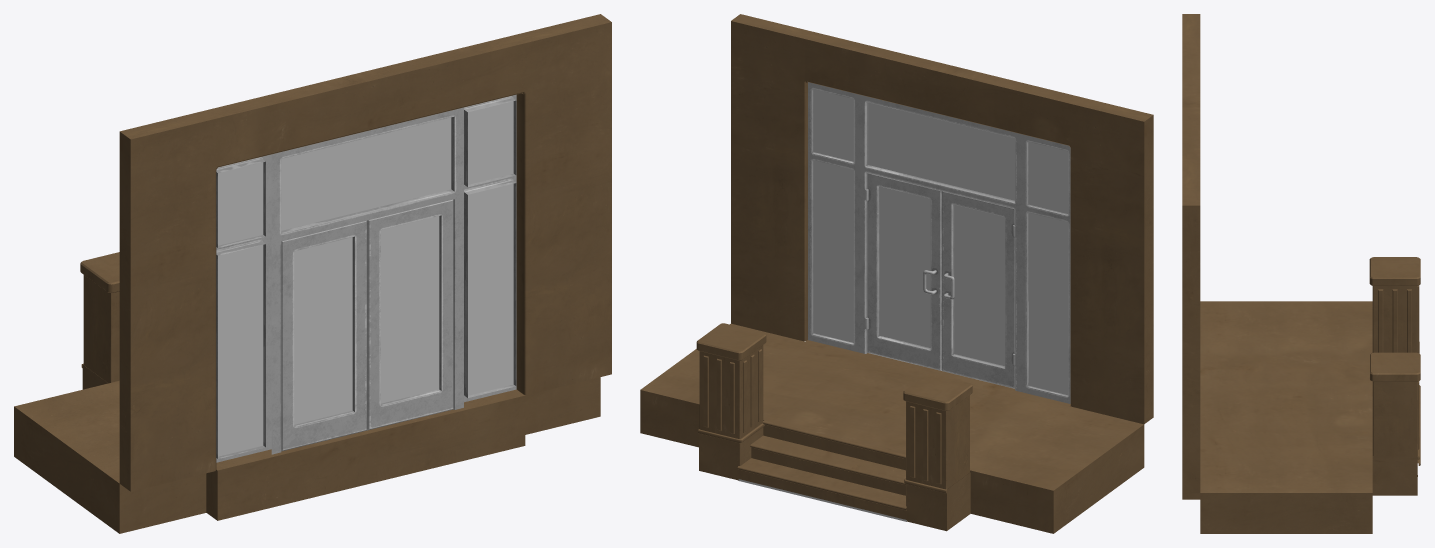
File: SM_Building02EntranceR.fbx
The picture shows the model from 3 angles, left to right: view 1: azimuth 30°, elevation 25°; view 2: azimuth 150°, elevation 25°; view 3: azimuth 270°, elevation 25°; orthographic projection. The views are drawn at different scales.
Parts seen in each view (by area): view 1: SM_Building02EntranceR_LOD0; view 2: SM_Building02EntranceR_LOD0; view 3: SM_Building02EntranceR_LOD0.
Boxes of the visible parts, x1,y1,x2,y2 form: SM_Building02EntranceR_LOD0: (14,14,611,533); SM_Building02EntranceR_LOD0: (640,14,1153,533); SM_Building02EntranceR_LOD0: (1182,14,1420,533).
Size of the model in its own units: 500 by 263 by 400.
